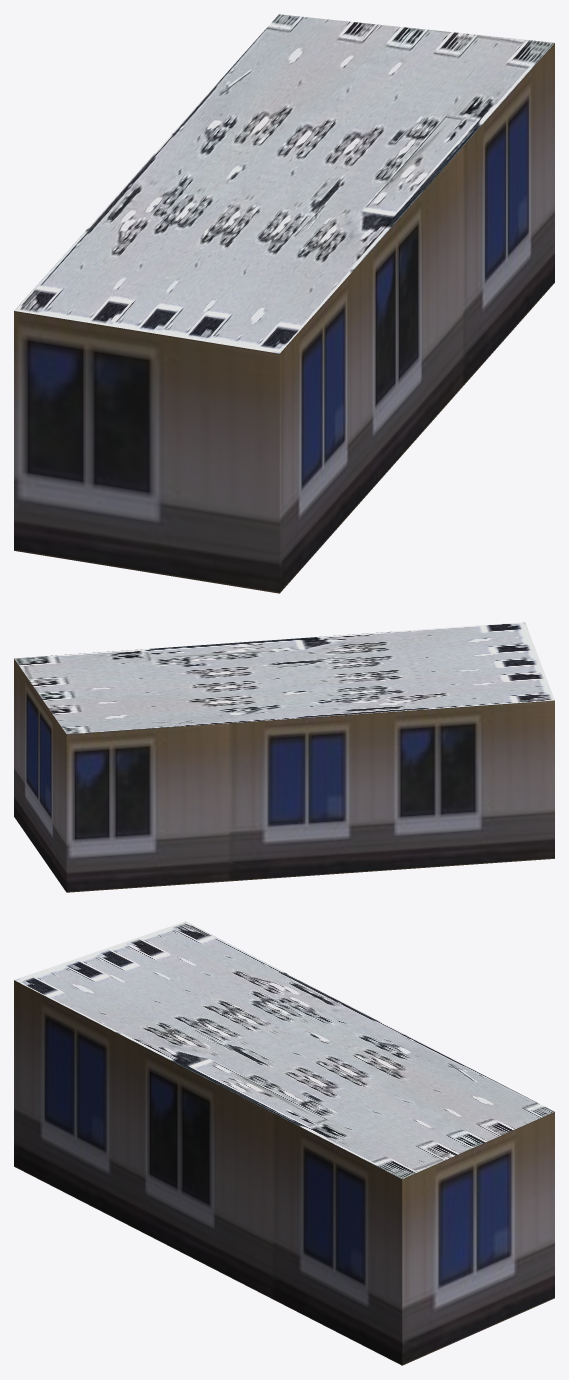
The model's file is ResTex__4770.fbx.
3 renders of one model, top to bottom at view 1: azimuth 30°, elevation 25°; view 2: azimuth 150°, elevation 25°; view 3: azimuth 270°, elevation 25°, orthographic. The views are drawn at different scales.
Visible parts, largest first — view 1: CityEngineMaterial_5_m, CityEngineMaterial_4_m; view 2: CityEngineMaterial_5_m, CityEngineMaterial_4_m; view 3: CityEngineMaterial_5_m, CityEngineMaterial_4_m.
Part boxes in pixels (x1,y1,x2,y2): CityEngineMaterial_5_m: (14,43,554,593); CityEngineMaterial_4_m: (14,14,554,353); CityEngineMaterial_5_m: (14,659,554,892); CityEngineMaterial_4_m: (14,622,554,734); CityEngineMaterial_5_m: (14,980,554,1365); CityEngineMaterial_4_m: (14,921,554,1179).
Bounding box in the file's own units: 8.91 × 3 × 7.89.
Materials: 2 (2 with a texture image).
